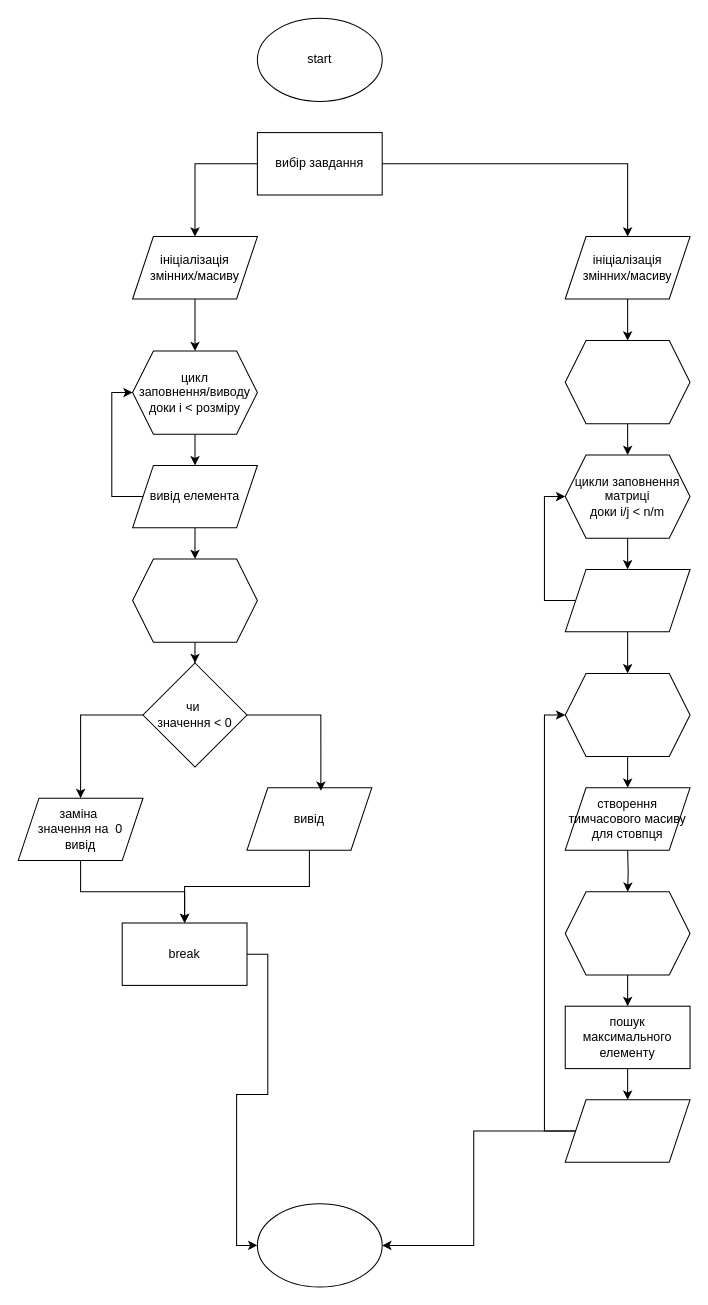
This 708x1305 diagram has some shape labels left out. Each missing label, with the box of its shape:
end: (256, 1203, 382, 1287)
вивід елементів матриці: (564, 568, 690, 632)
вивід значень: (564, 1099, 690, 1162)
цикл виділення пам'яті доки і < n: (564, 340, 690, 424)
цикл заміни/виводу доки і < розміру: (132, 558, 257, 642)
цикл заповнення тимчасового масиву: (564, 891, 690, 975)
цикл пошуку: (564, 672, 690, 757)
